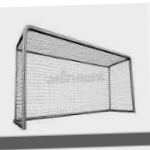goals: (12, 22, 138, 130)
